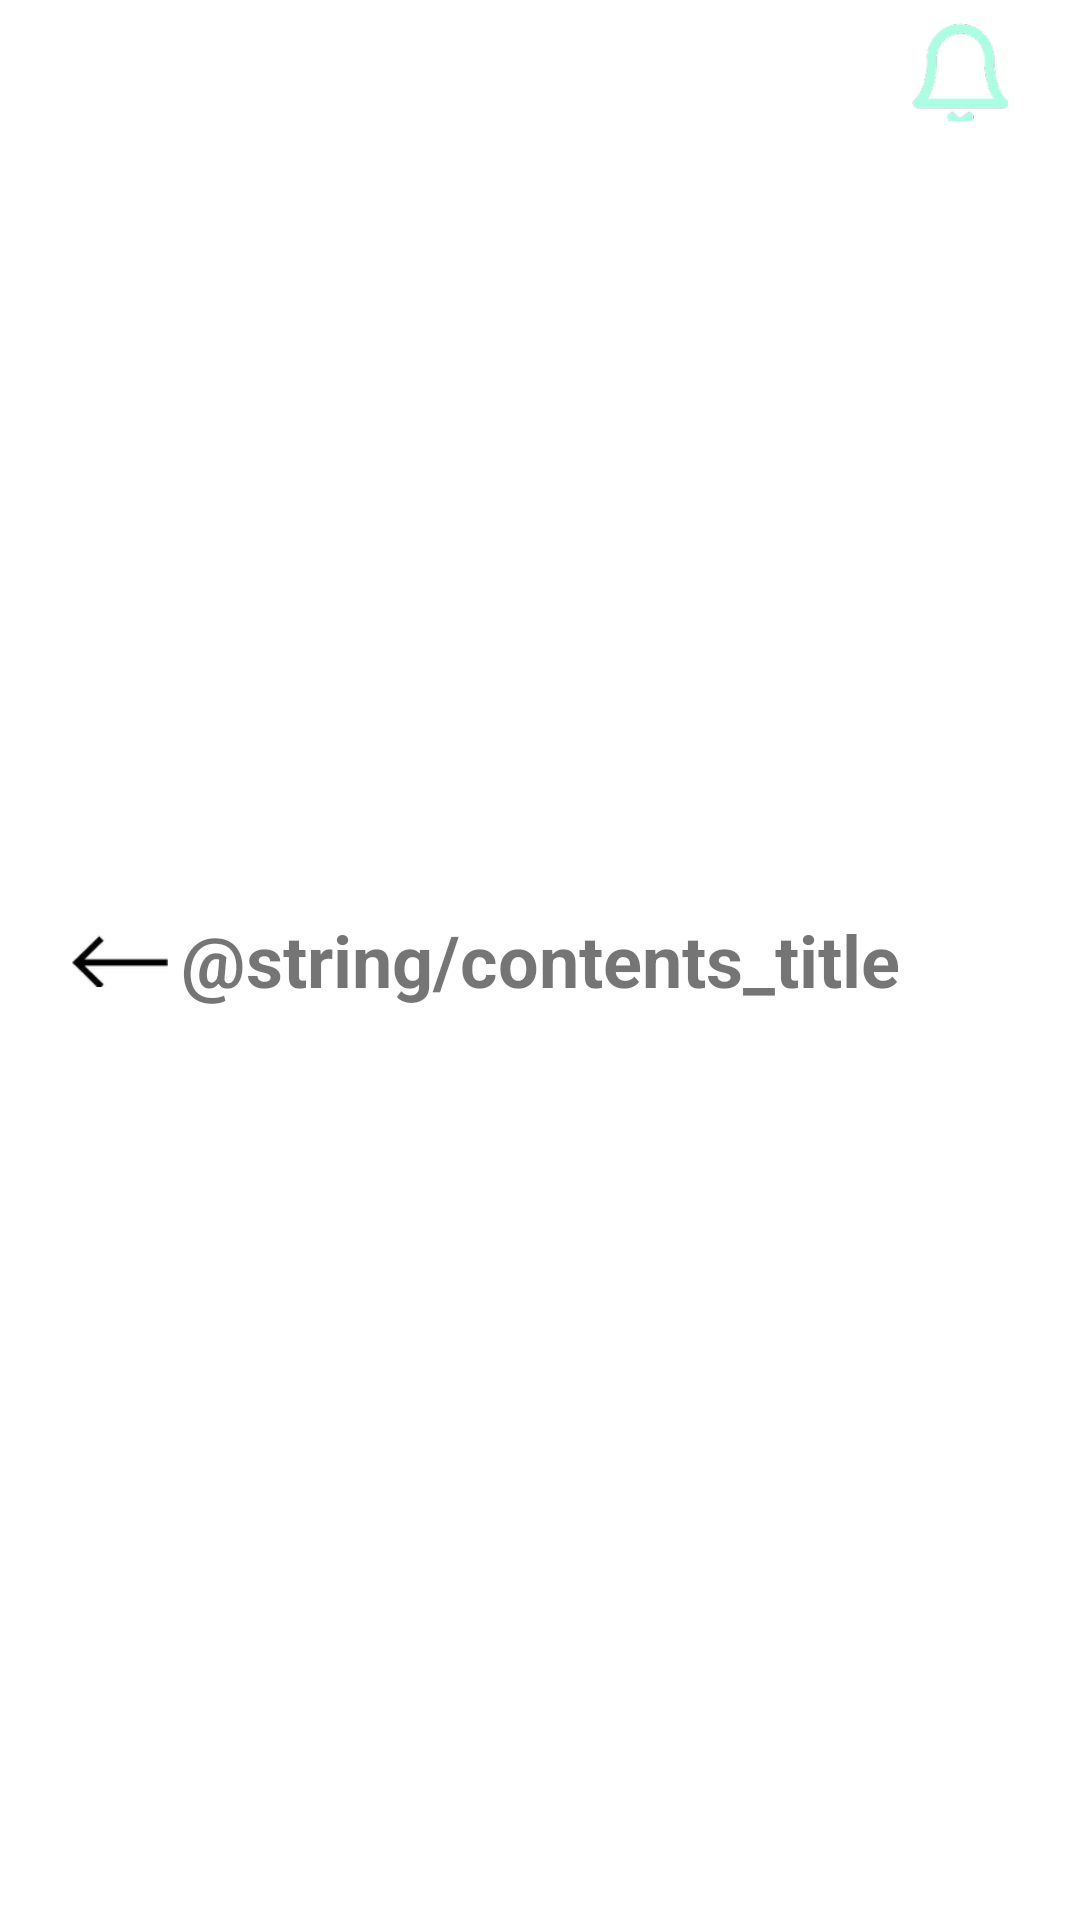

Icons on this 1080×1920 Android screen, each with its box as (x1, y1, x2, y2):
arrow back: (72, 935, 168, 987)
noti: (912, 24, 1008, 121)
